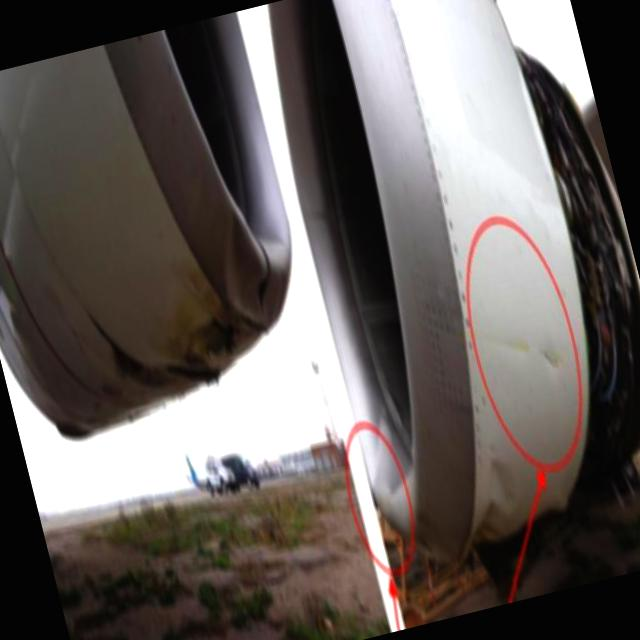crack: (535, 338, 565, 381)
dent: (449, 456, 532, 558)
